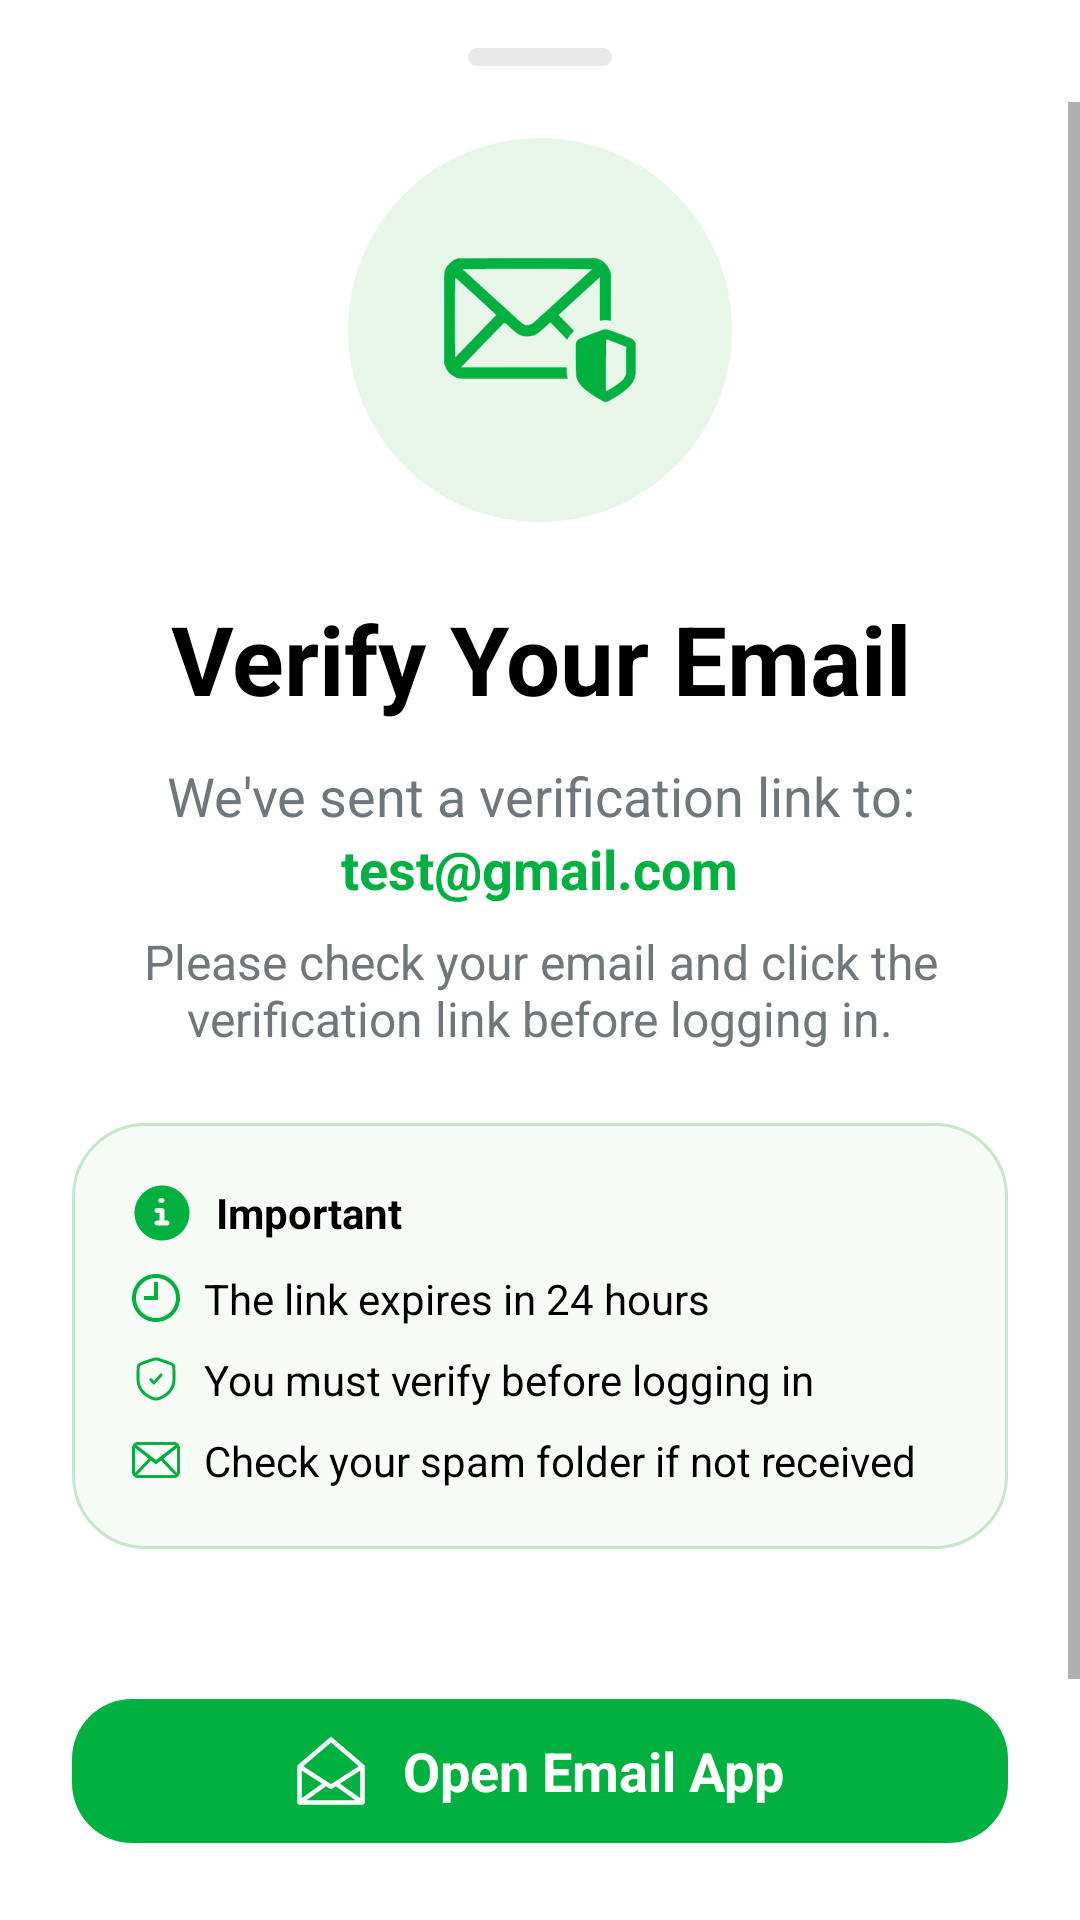

Named icons in this screenshot (1080px x 1920px) and their bounding boxes, [x1,y1,x2,y2]:
info: [134,1185,190,1241]
shield check verify: [136,1357,176,1401]
time verify: [132,1274,180,1322]
